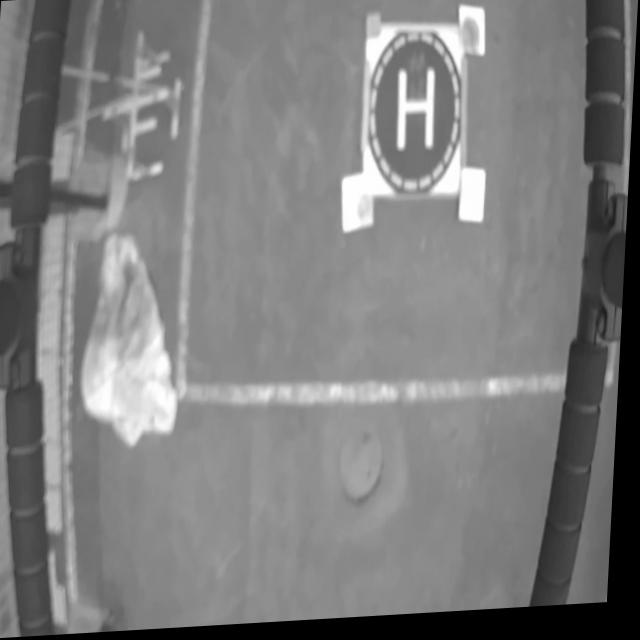Helipad: (397, 70, 435, 156)
